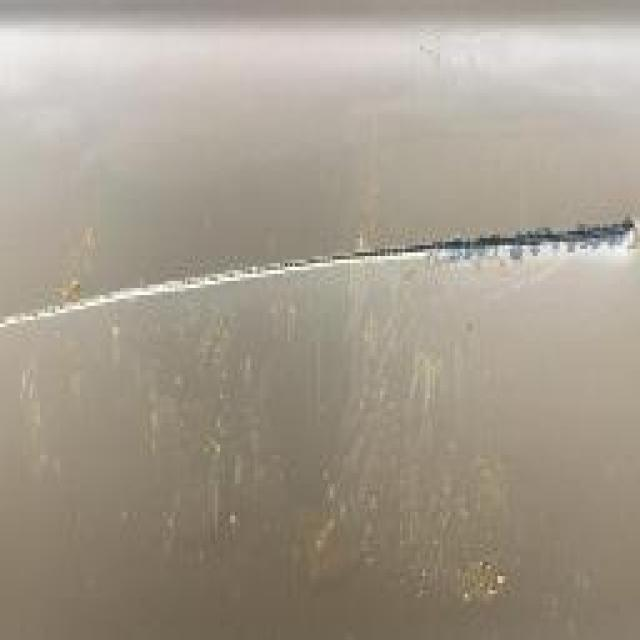Bumper: (0, 135, 640, 640)
